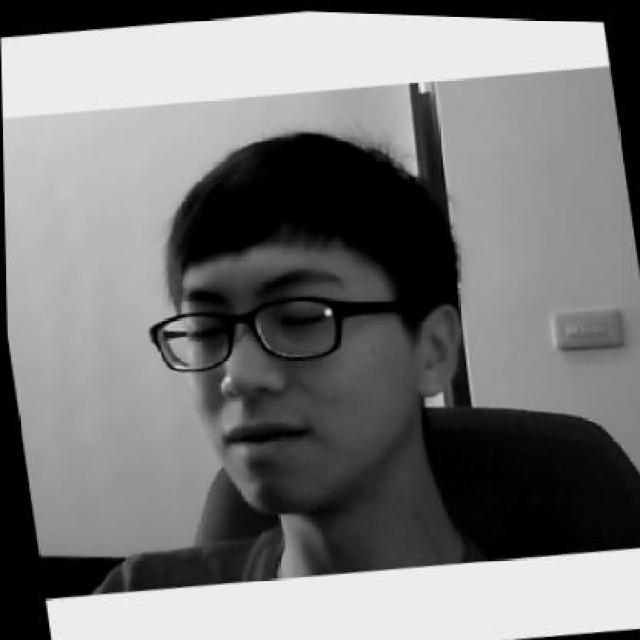inattentif: (121, 106, 484, 529)
